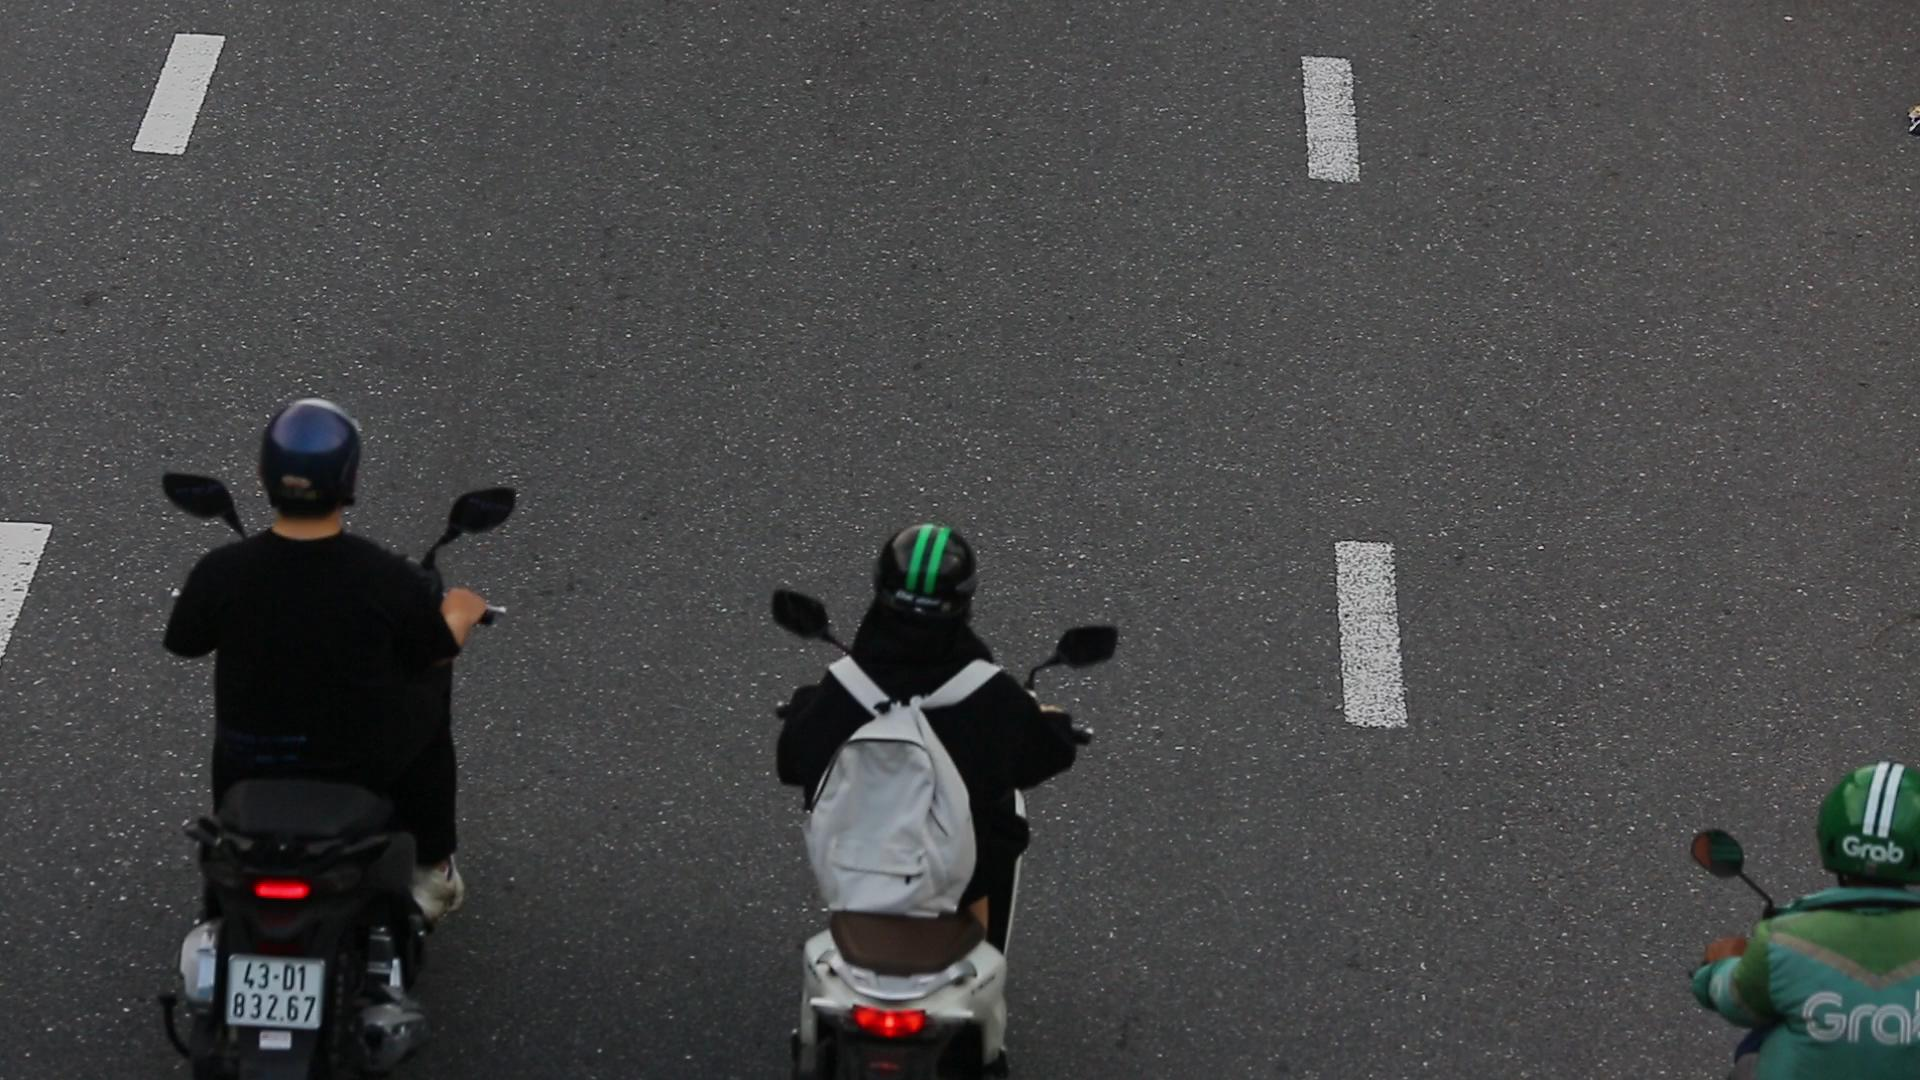motobike: (152, 384, 514, 1080)
